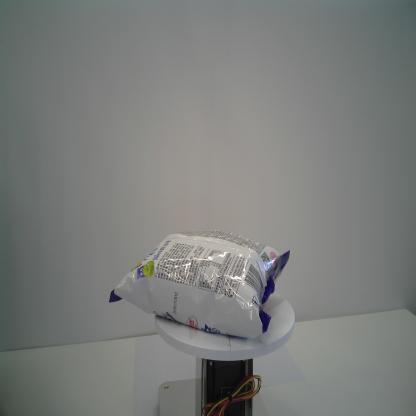Puffed Food: (106, 227, 292, 340)
